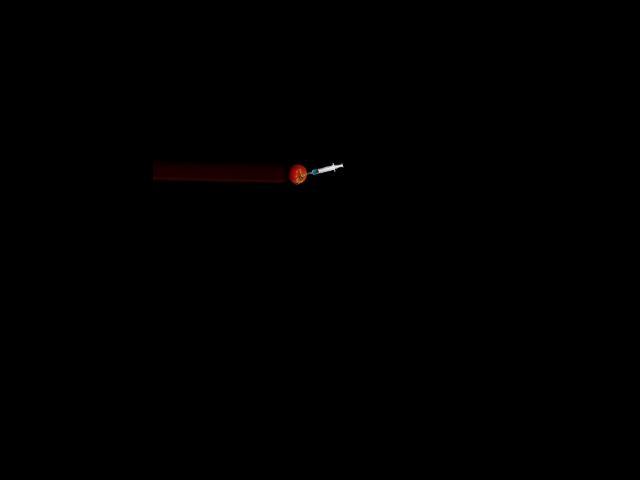tomato: (288, 163, 306, 184)
